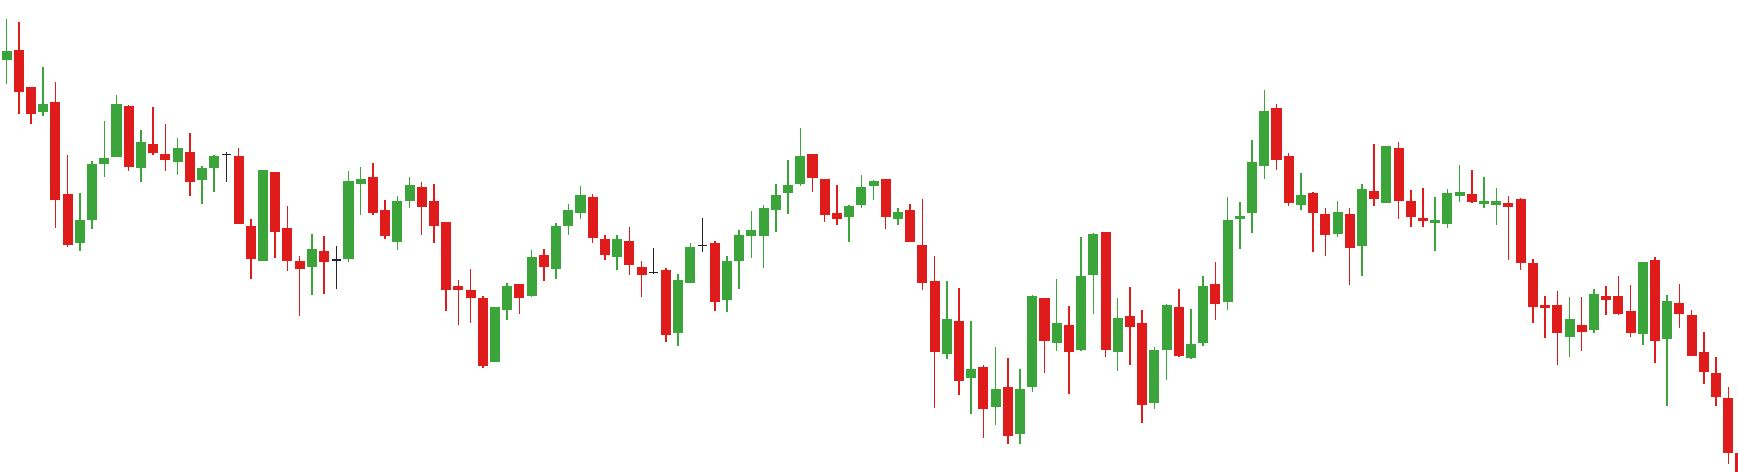buy: (293, 219, 501, 371)
sell: (577, 132, 834, 271)
